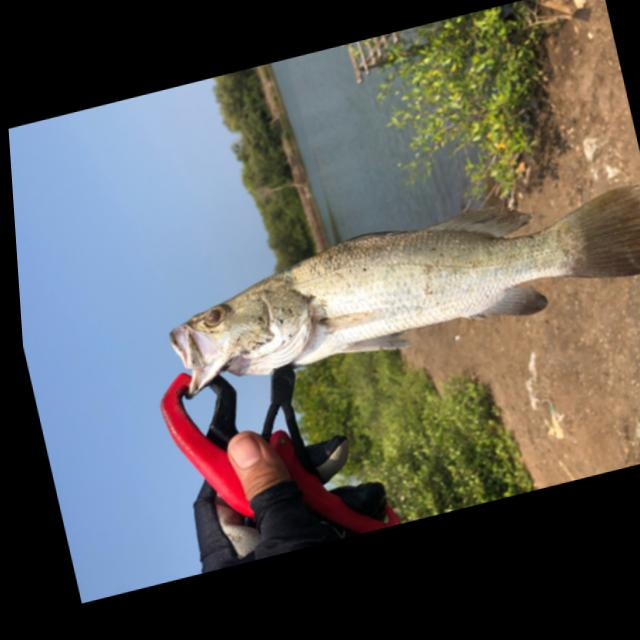Seabass: (149, 163, 640, 403)
